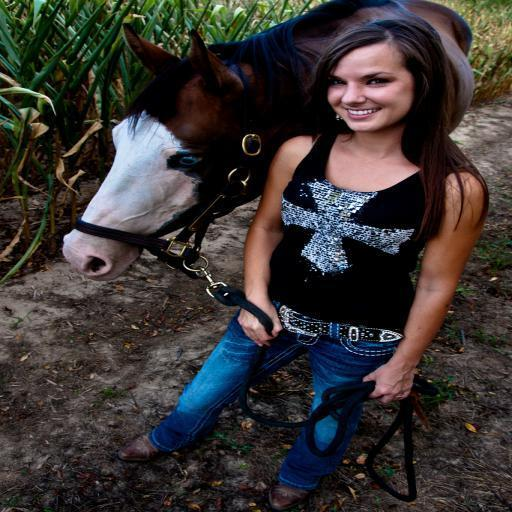horse: (58, 0, 478, 284)
